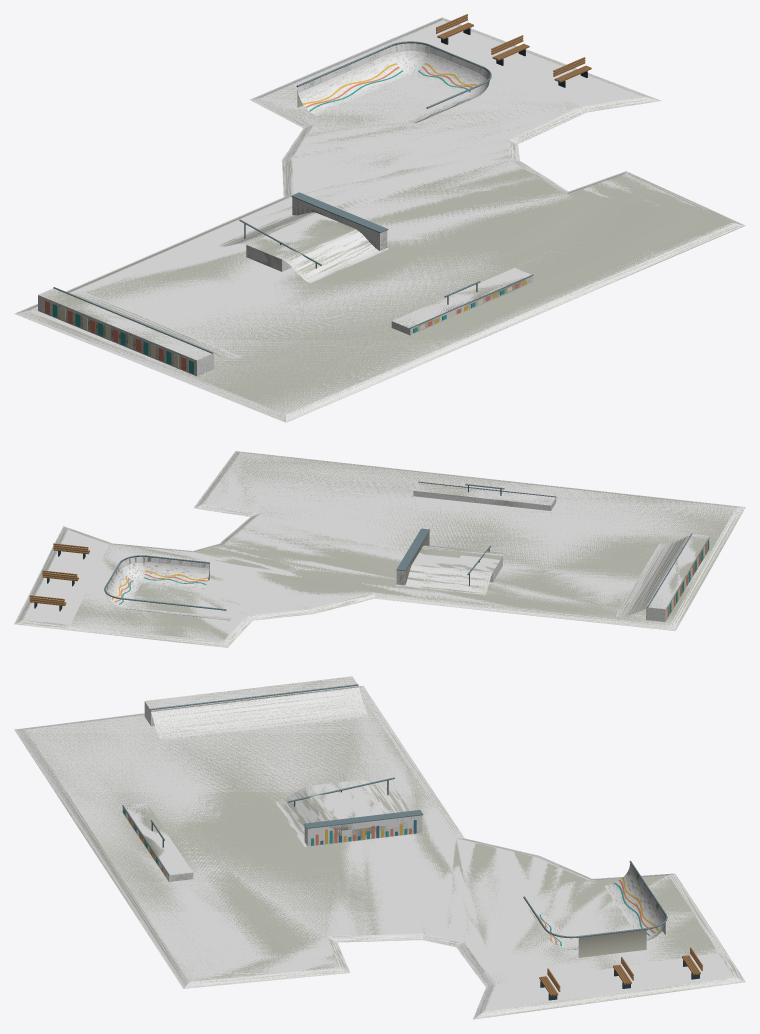
The model's file is skatepark.glb.
The picture shows the model from 3 angles, top to bottom: view 1: azimuth 30°, elevation 25°; view 2: azimuth 150°, elevation 25°; view 3: azimuth 270°, elevation 25°; orthographic projection. The views are drawn at different scales.
Parts seen in each view (by area): view 1: VIS_floor, COL_concrete_continuous_concrete, COL_concrete_rolled_perimeter_apron, VIS_concrete, COL_concrete_bench_shoulder, COL_concrete_western_deck, COL_concrete_bowl_y_1, VIS_steel, COL_concrete_central_bank_-1, COL_concrete_southern_manual_pad, COL_concrete_bowl_x_1, COL_concrete_central_deck (+7 smaller); view 2: COL_concrete_continuous_concrete, VIS_floor, COL_concrete_rolled_perimeter_apron, VIS_concrete, COL_concrete_bench_shoulder, COL_concrete_southern_manual_pad, COL_concrete_central_bank_1, COL_concrete_west_transition, COL_concrete_western_deck, COL_concrete_bowl_y_-1, VIS_steel, COL_concrete_central_deck (+4 smaller); view 3: COL_concrete_continuous_concrete, VIS_floor, COL_concrete_rolled_perimeter_apron, VIS_concrete, COL_concrete_west_transition, COL_concrete_bench_shoulder, COL_concrete_western_deck, VIS_steel, COL_concrete_central_deck, COL_concrete_bowl_y_1, COL_concrete_southern_manual_pad, VIS_edge (+4 smaller).
Part boxes in pixels (x1,y1,x2,y2): VIS_floor: [16, 17, 744, 421]; COL_concrete_continuous_concrete: [29, 39, 730, 413]; COL_concrete_rolled_perimeter_apron: [14, 17, 745, 422]; VIS_concrete: [38, 43, 533, 375]; COL_concrete_bench_shoulder: [400, 21, 641, 105]; COL_concrete_western_deck: [38, 288, 214, 376]; COL_concrete_bowl_y_1: [297, 47, 410, 115]; VIS_steel: [53, 41, 533, 353]; COL_concrete_central_bank_-1: [282, 229, 388, 283]; COL_concrete_southern_manual_pad: [391, 268, 533, 335]; COL_concrete_bowl_x_1: [411, 47, 482, 96]; COL_concrete_central_deck: [246, 213, 337, 271]; COL_concrete_continuous_concrete: [71, 453, 735, 641]; VIS_floor: [16, 451, 745, 647]; COL_concrete_rolled_perimeter_apron: [14, 451, 745, 647]; VIS_concrete: [105, 483, 709, 621]; COL_concrete_bench_shoulder: [24, 530, 108, 624]; COL_concrete_southern_manual_pad: [413, 482, 556, 510]; COL_concrete_central_bank_1: [396, 563, 492, 595]; COL_concrete_west_transition: [616, 536, 688, 616]; COL_concrete_western_deck: [646, 534, 709, 621]; COL_concrete_bowl_y_-1: [142, 557, 209, 589]; VIS_steel: [104, 481, 692, 610]; COL_concrete_central_deck: [412, 547, 502, 582]; COL_concrete_continuous_concrete: [27, 697, 717, 984]; VIS_floor: [15, 686, 743, 1019]; COL_concrete_rolled_perimeter_apron: [14, 686, 745, 1019]; VIS_concrete: [122, 677, 665, 949]; COL_concrete_west_transition: [151, 687, 368, 741]; COL_concrete_bench_shoulder: [485, 953, 733, 1010]; COL_concrete_western_deck: [144, 676, 358, 726]; VIS_steel: [122, 684, 667, 938]; COL_concrete_central_deck: [312, 780, 388, 842]; COL_concrete_bowl_y_1: [604, 863, 665, 936]; COL_concrete_southern_manual_pad: [122, 803, 193, 881]; VIS_edge: [578, 924, 665, 957].
Size of the model in its own units: 39.16 by 1.46 by 36.27.
